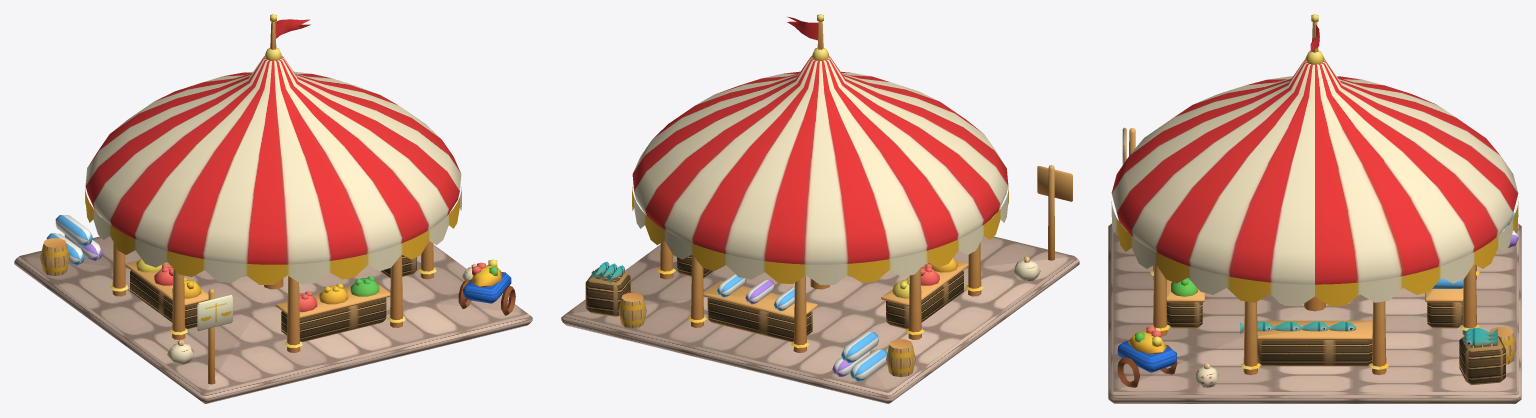
The model's file is market.glb.
3 renders of one model, left to right at view 1: azimuth 30°, elevation 25°; view 2: azimuth 150°, elevation 25°; view 3: azimuth 270°, elevation 25°, orthographic. The views are drawn at different scales.
Visible parts, largest first — view 1: market; view 2: market; view 3: market.
Boxes of the visible parts, x1,y1,x2,y2 form: market: [14, 14, 532, 403]; market: [561, 14, 1079, 403]; market: [1108, 14, 1521, 403].
Size of the model in its own units: 11.1 by 9.03 by 11.1.
Materials: 3 (3 with a texture image).
